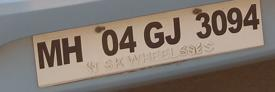0: (98, 28, 120, 57), (210, 7, 228, 37)
3: (193, 12, 214, 42)
4: (241, 0, 262, 33), (118, 27, 139, 55)
9: (226, 5, 246, 37)
G: (141, 20, 166, 48)
H: (62, 34, 86, 67)
J: (164, 17, 184, 47)
M: (35, 40, 66, 69)
